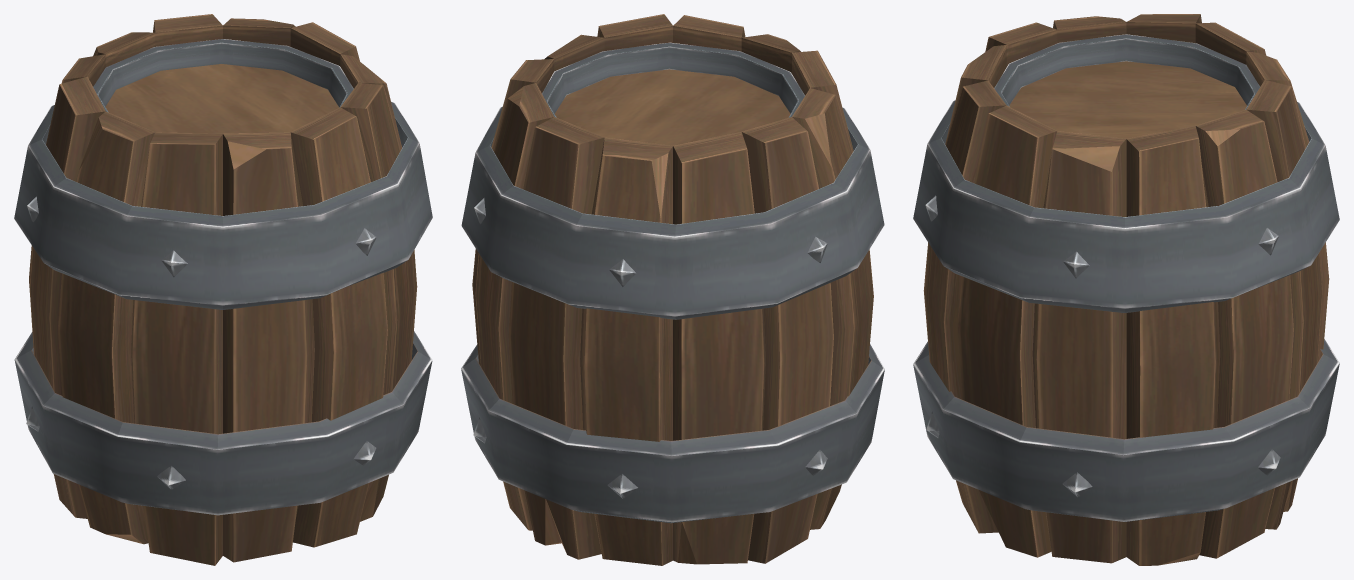
File: A_HA_GEN_Barrel_01.fbx
3 views of the same model, side by side, from view 1: azimuth 30°, elevation 25°; view 2: azimuth 150°, elevation 25°; view 3: azimuth 270°, elevation 25° (orthographic). The views are drawn at different scales.
Parts seen in each view (by area): view 1: A_CA_GEN_Barrel_01; view 2: A_CA_GEN_Barrel_01; view 3: A_CA_GEN_Barrel_01.
Part boxes in pixels (x1=…): A_CA_GEN_Barrel_01: x1=14, y1=14, x2=432, y2=565; A_CA_GEN_Barrel_01: x1=461, y1=14, x2=884, y2=565; A_CA_GEN_Barrel_01: x1=913, y1=14, x2=1339, y2=565.
Bounding box in the file's own units: 372 × 414 × 371.
1 material, 1 textured.
